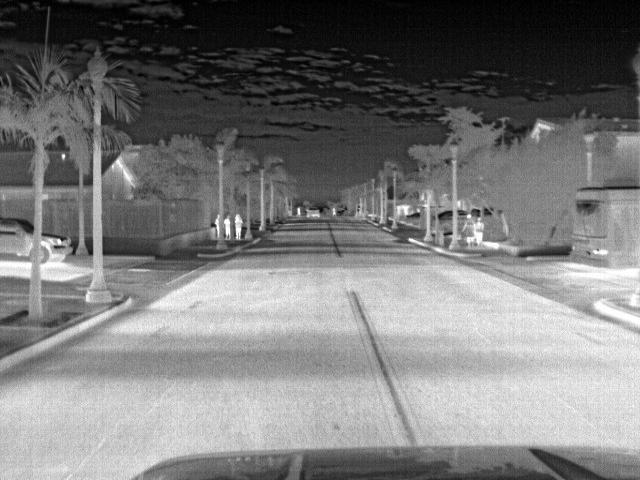car: (2, 219, 33, 265), (41, 230, 69, 264), (305, 206, 321, 220)
person: (471, 212, 487, 246), (462, 213, 476, 247), (232, 213, 245, 242)
